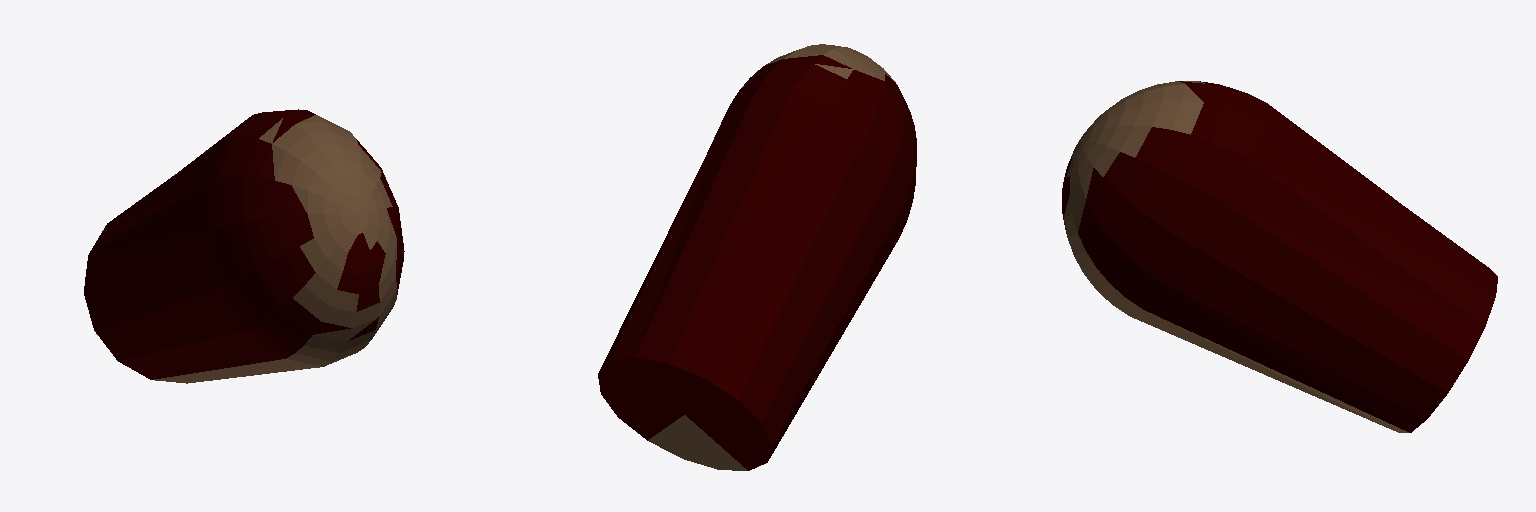
File: e_teil1.obj
The picture shows the model from 3 angles: view 1: azimuth 30°, elevation 25°; view 2: azimuth 150°, elevation 25°; view 3: azimuth 270°, elevation 25°; orthographic projection.
Bounding box in the file's own units: 0.7063 × 1.37 × 1.61.